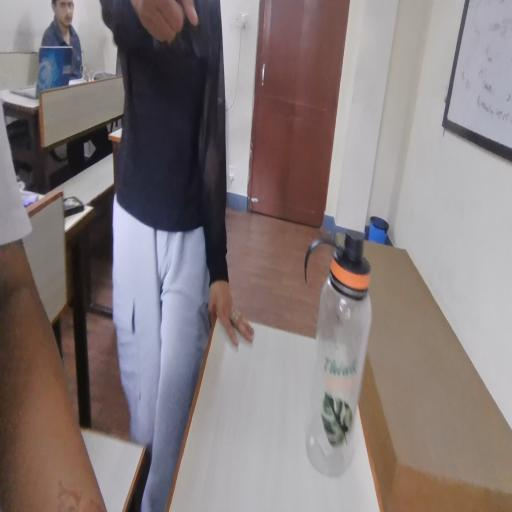Bottle: (311, 229, 376, 493)
